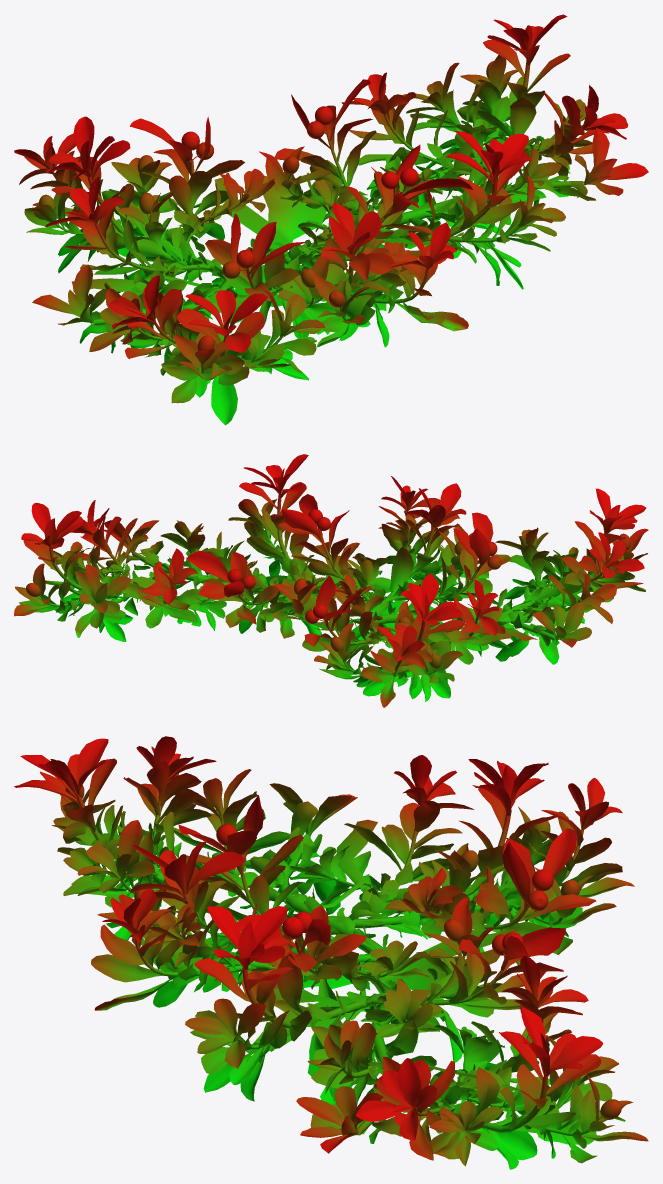
File: Alpine Bearberry_LOD0_Var11_xb0gdazqx.fbx
The picture shows the model from 3 angles, top to bottom: view 1: azimuth 30°, elevation 25°; view 2: azimuth 150°, elevation 25°; view 3: azimuth 270°, elevation 25°; orthographic projection. The views are drawn at different scales.
Parts seen in each view (by area): view 1: _50sv_Var11_LOD0; view 2: _50sv_Var11_LOD0; view 3: _50sv_Var11_LOD0.
Part boxes in pixels (x1,y1,x2,y2): _50sv_Var11_LOD0: (14, 14, 648, 425); _50sv_Var11_LOD0: (14, 454, 648, 707); _50sv_Var11_LOD0: (14, 736, 648, 1169).
Size of the model in its own units: 51.07 by 13.12 by 38.24.
